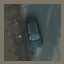car: (26, 15, 42, 49)
